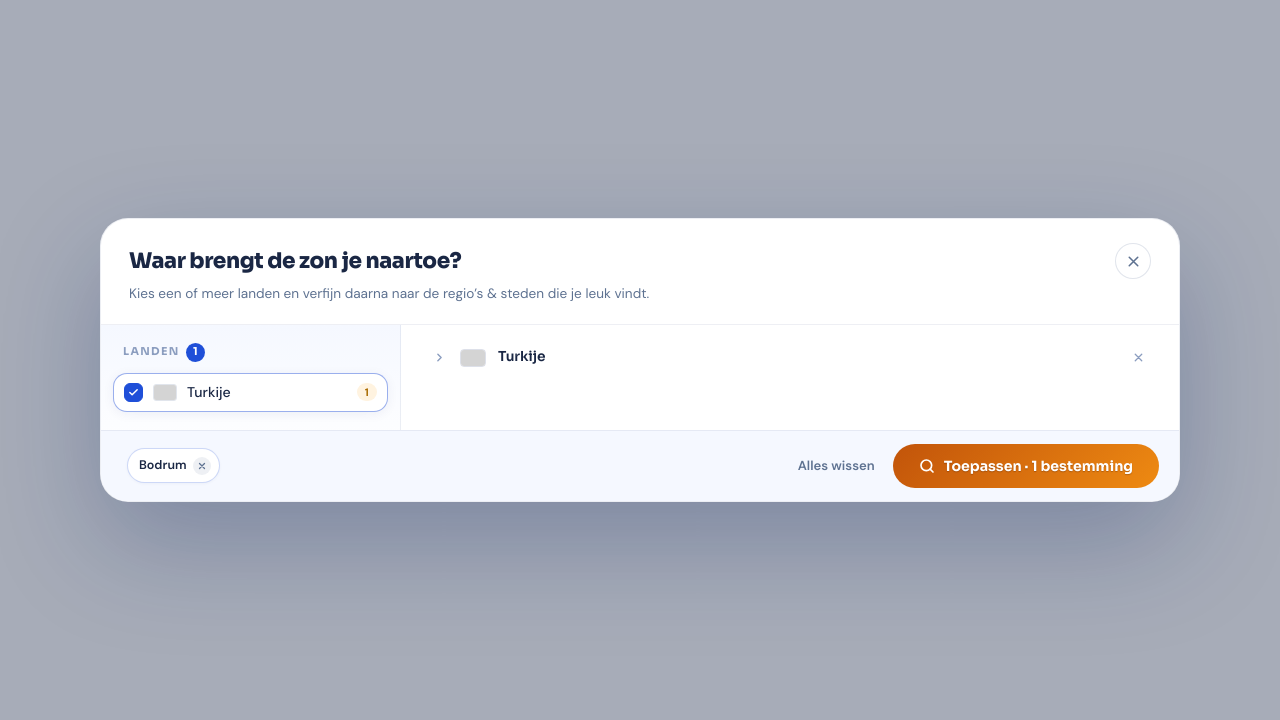
Test: destinations the chosen airport cannot reach › a destination the traveller already picked is never greyed
Click the button "Turkije" at x=522, y=357, box x1=418 y1=338 x2=1162 y2=378
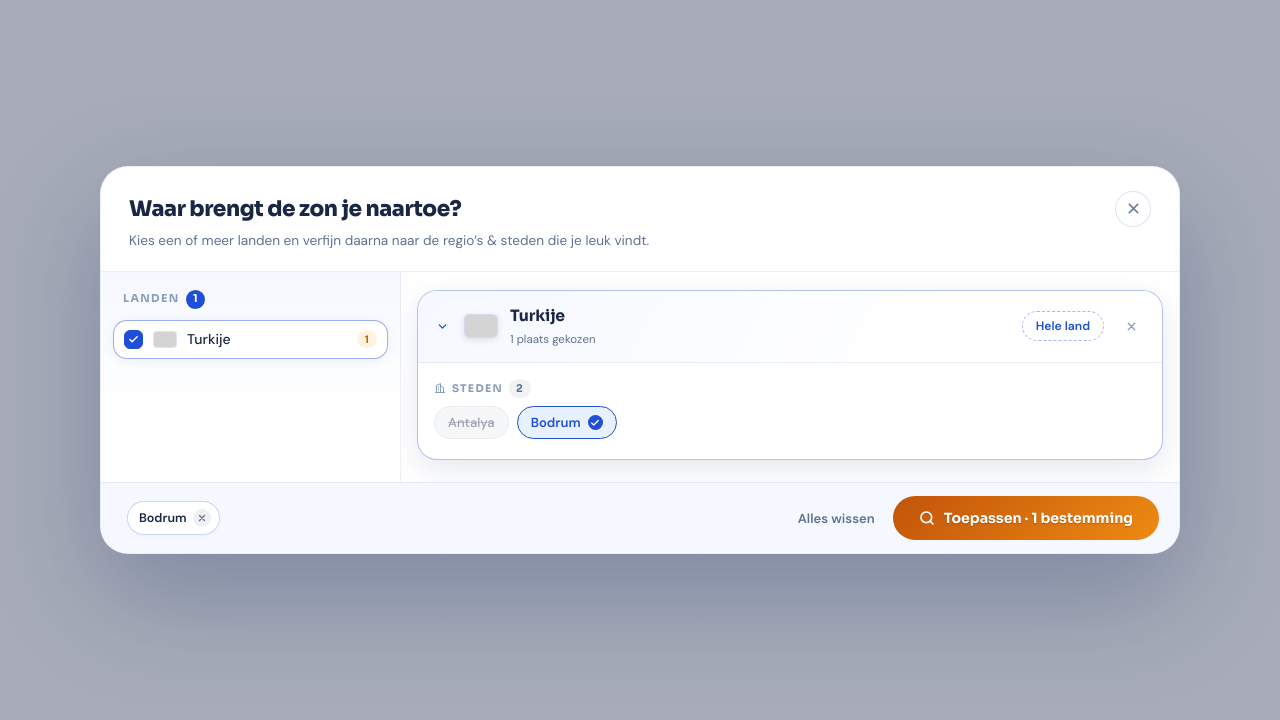
Check: the button "Bodrum" is enabled, box x1=517 y1=406 x2=617 y2=439
